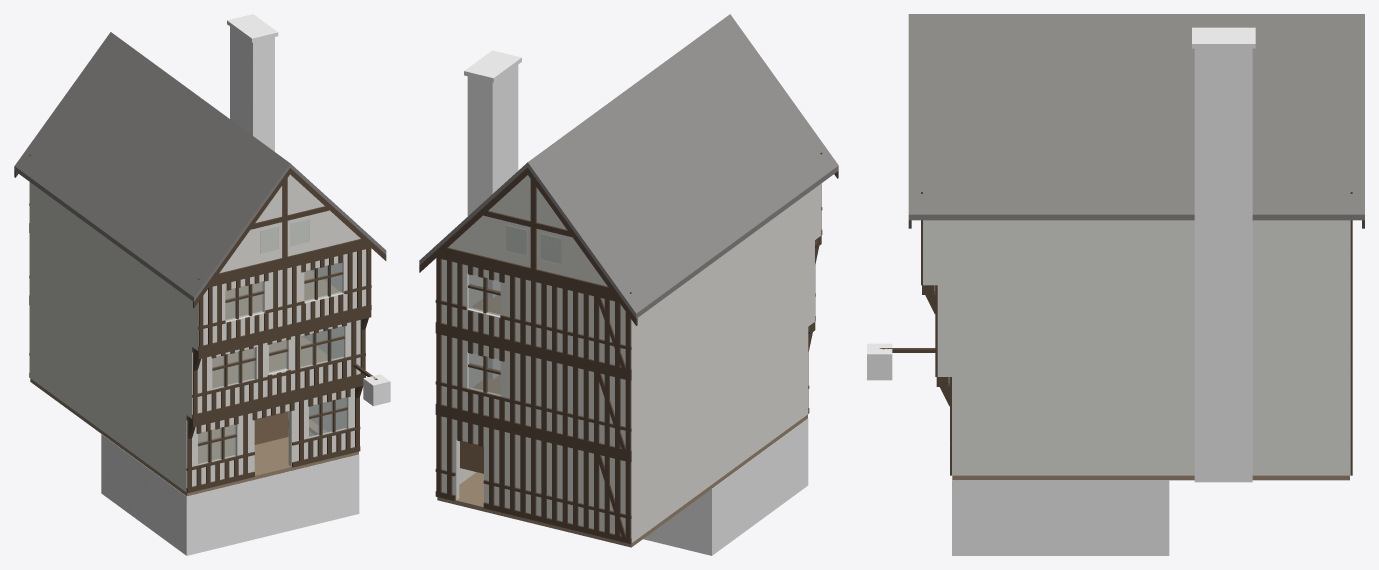
The model's file is hatchet.glb.
The picture shows the model from 3 angles, left to right: view 1: azimuth 30°, elevation 25°; view 2: azimuth 150°, elevation 25°; view 3: azimuth 270°, elevation 25°; orthographic projection. The views are drawn at different scales.
Parts seen in each view (by area): view 1: render, roof, timber, stone, glass, floor, flags, hatchet-door-01 leaf, green; view 2: render, roof, timber, stone, glass, floor, flags, hatchet-door-02 leaf; view 3: render, roof, stone, timber, floor, flags, green.
Part boxes in pixels (bbox=[...]): render: bbox=[30, 174, 366, 492]; roof: bbox=[14, 32, 386, 301]; timber: bbox=[14, 154, 386, 493]; stone: bbox=[101, 14, 359, 551]; glass: bbox=[198, 219, 346, 465]; floor: bbox=[30, 270, 358, 496]; flags: bbox=[101, 490, 359, 555]; hatchet-door-01 leaf: bbox=[254, 411, 288, 444]; green: bbox=[363, 374, 390, 406]; render: bbox=[441, 175, 821, 542]; roof: bbox=[419, 14, 838, 318]; timber: bbox=[419, 152, 838, 543]; stone: bbox=[464, 50, 808, 551]; glass: bbox=[468, 225, 561, 395]; floor: bbox=[437, 239, 816, 547]; flags: bbox=[643, 481, 808, 555]; hatchet-door-02 leaf: bbox=[460, 441, 483, 473]; render: bbox=[923, 220, 1350, 475]; roof: bbox=[908, 14, 1364, 220]; stone: bbox=[952, 27, 1255, 550]; timber: bbox=[879, 192, 1364, 475]; floor: bbox=[934, 285, 1349, 480]; flags: bbox=[952, 551, 1169, 555]; green: bbox=[867, 343, 892, 380].
Bounding box in the file's own units: 7.93 × 15.85 × 13.75.
